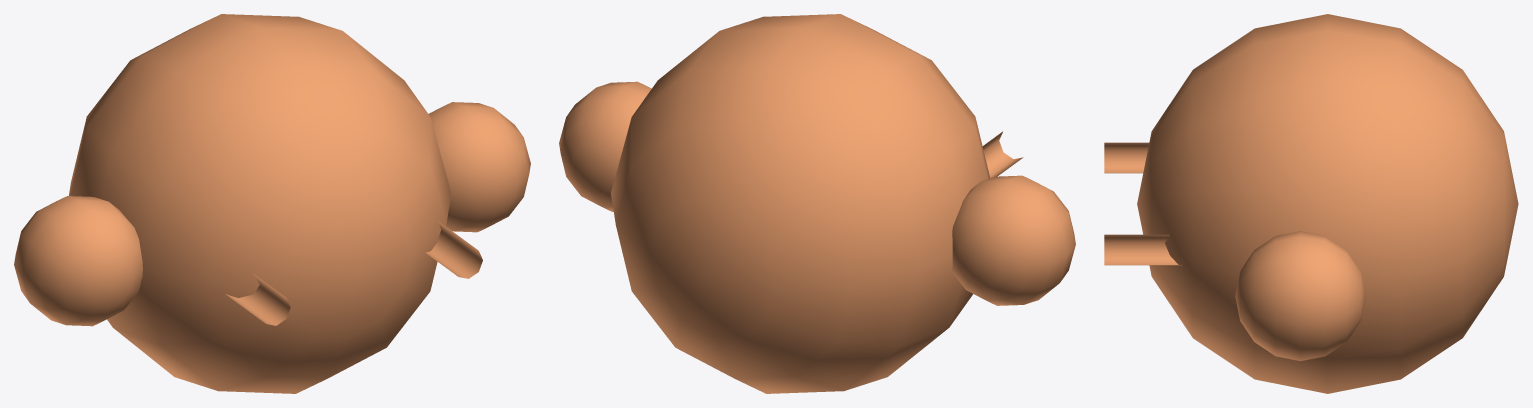
The picture shows the model from 3 angles, left to right: view 1: azimuth 30°, elevation 25°; view 2: azimuth 150°, elevation 25°; view 3: azimuth 270°, elevation 25°; orthographic projection.
Visible parts, largest first — view 1: Murray Crayfish; view 2: Murray Crayfish; view 3: Murray Crayfish.
Part boxes in pixels (<box>): Murray Crayfish: <box>14,14,530,393</box>; Murray Crayfish: <box>559,14,1075,393</box>; Murray Crayfish: <box>1104,14,1518,393</box>.
Size of the model in its own units: 1.14 by 0.77 by 0.836.
